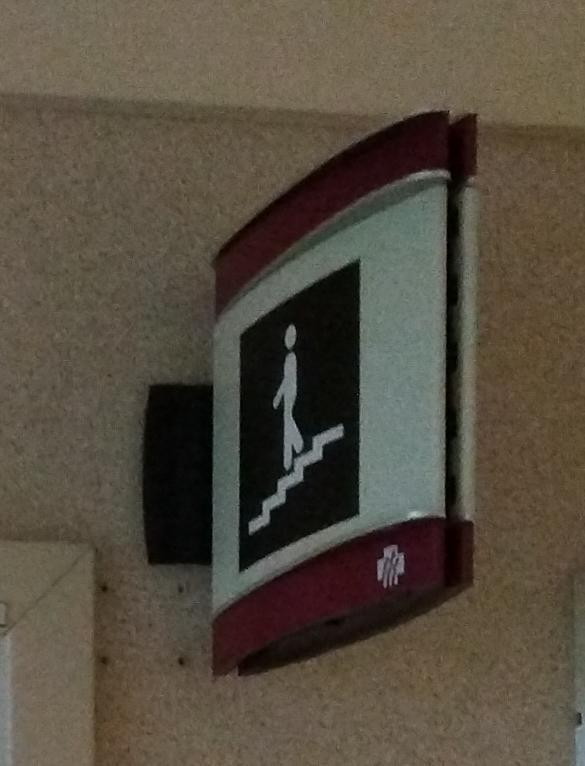sign: (207, 105, 476, 676)
